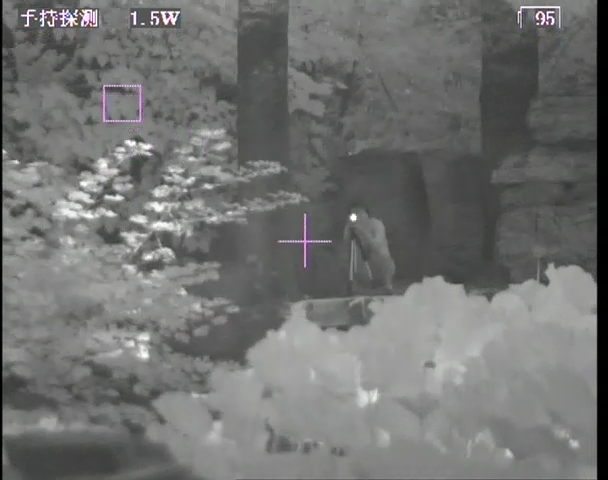my: (346, 211, 360, 225)
